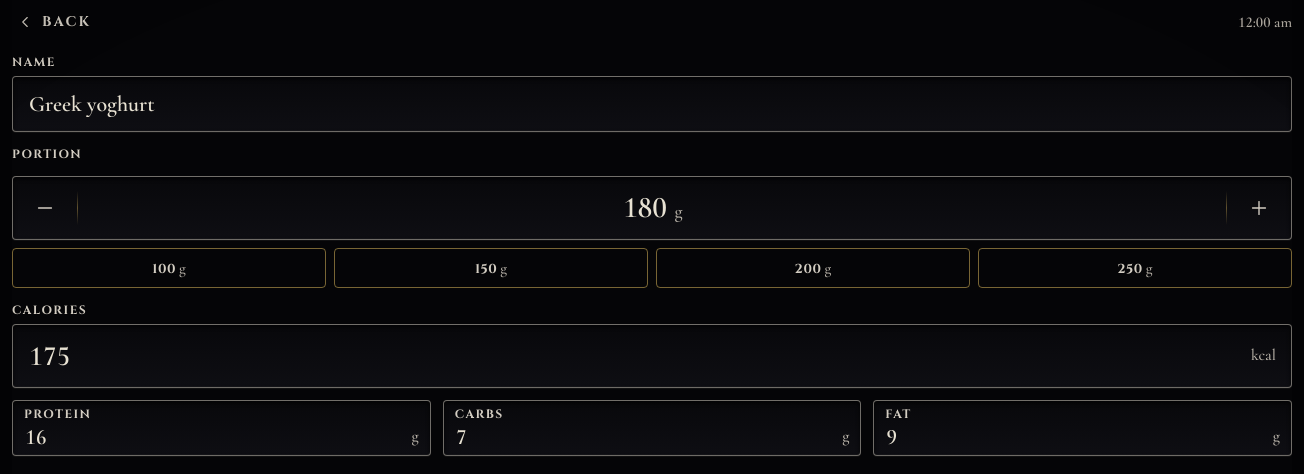
Test case: TODAY in the DOM › the entry editor edits a gram portion in grams and saves { portion }
the 250 g pick rescales the untouched numbers by 250 / 180
Click the button with test id "tp-today-edit-portion-pick-250": (1135,268) [978,248,1292,288]
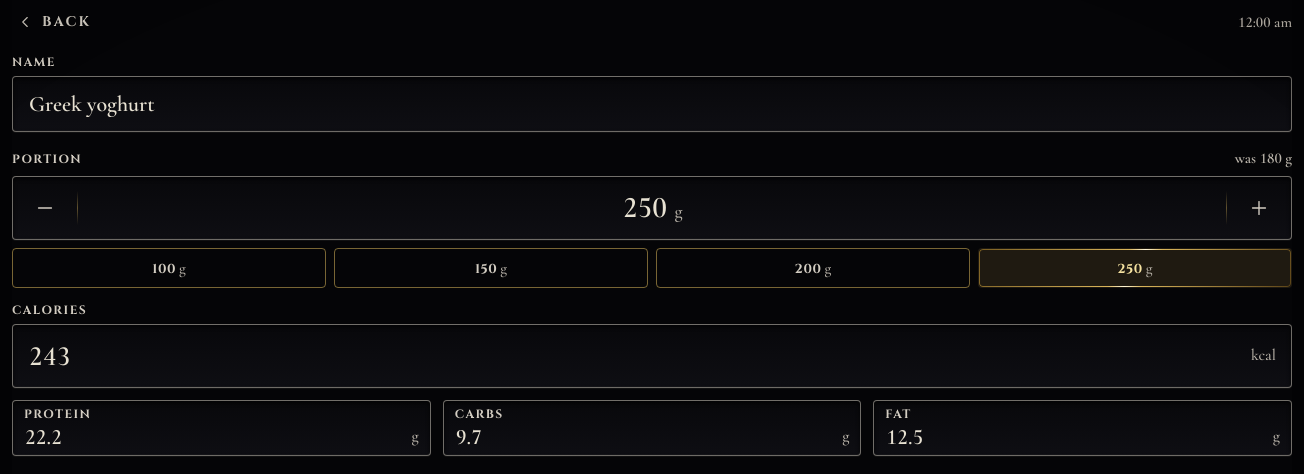
expect the field with test id "tp-today-edit-kcal" holds "243": met, box [12,324,1292,388]
expect the field with test id "tp-today-edit-protein" holds "22.2": met, box [12,400,431,456]
expect the text with test id "tp-today-edit-was" reads "was 180 g": met, box [1235,148,1292,169]
